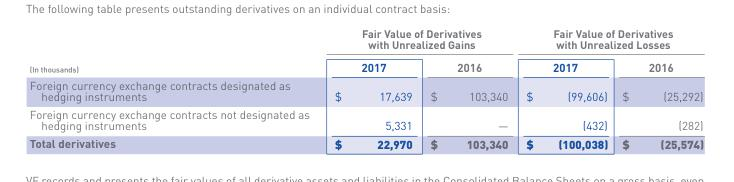table: (28, 28, 703, 150)
table column: (28, 28, 321, 150), (321, 28, 420, 150), (516, 28, 614, 150), (420, 28, 516, 150), (614, 28, 703, 150)
table column header: (28, 28, 703, 76)
table row: (28, 105, 703, 135), (28, 76, 703, 105), (28, 28, 703, 56), (28, 56, 703, 76), (28, 135, 703, 150)
table spanning cell: (28, 28, 321, 76), (321, 28, 516, 56), (516, 28, 703, 56)
